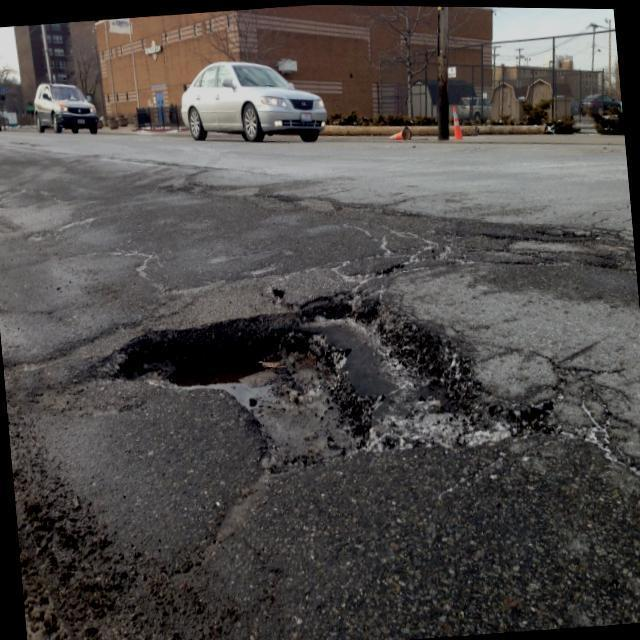Pothole: (72, 272, 562, 489), (6, 351, 275, 640)
